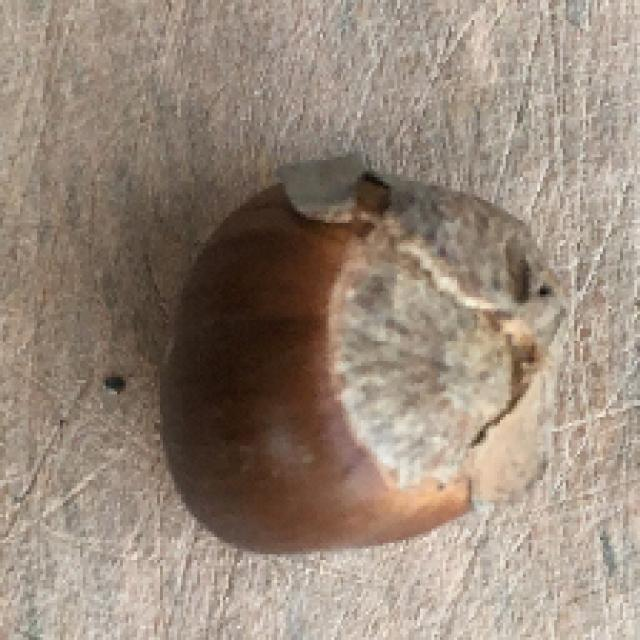damagedHazelnut: (156, 159, 570, 550)
